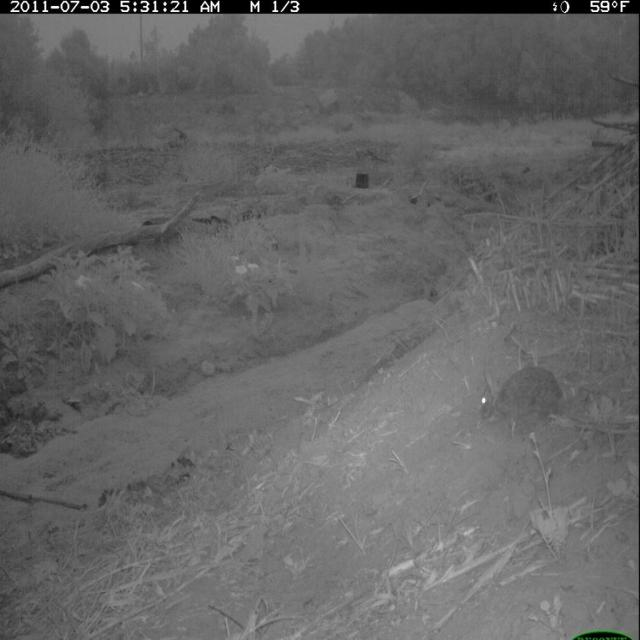rabbit: (472, 358, 573, 443)
